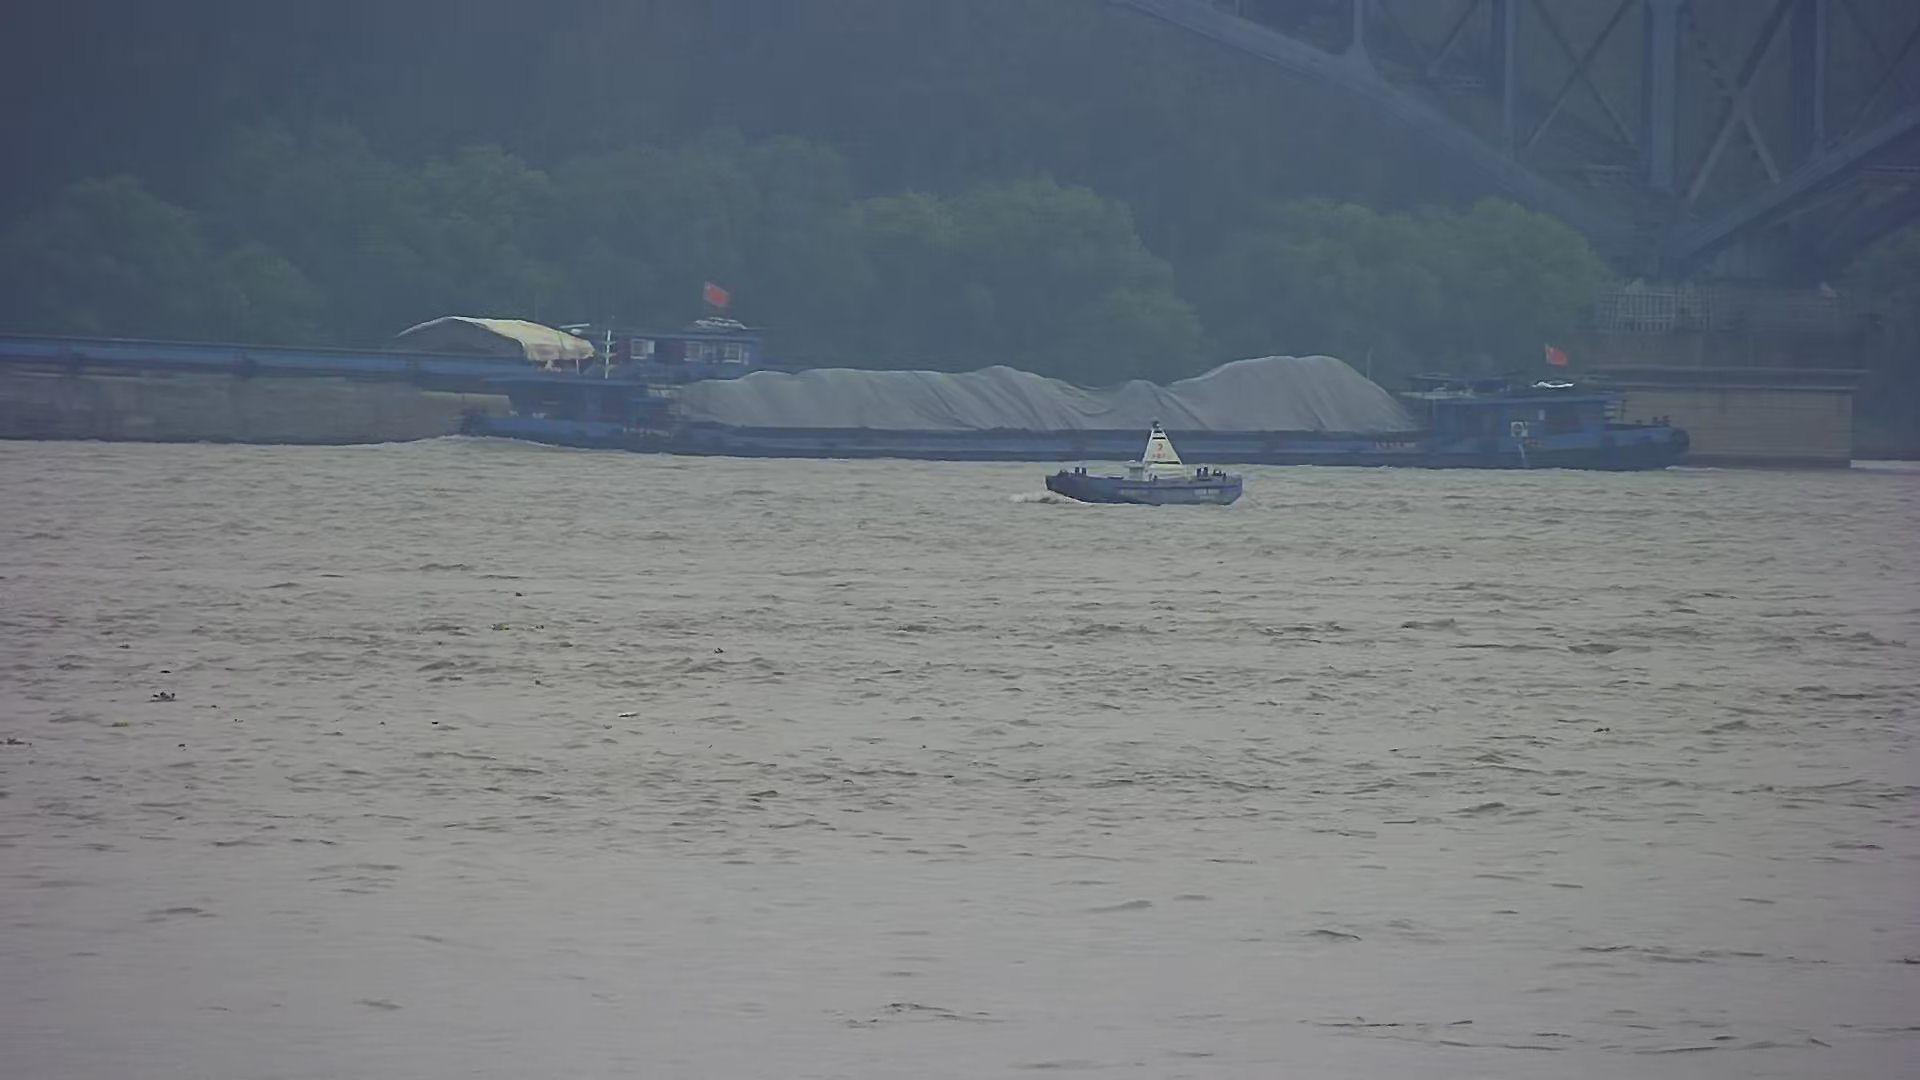boat: (1036, 411, 1270, 516)
bridge: (1118, 1, 1909, 467)
ship: (464, 320, 1705, 487), (1, 269, 767, 460)
